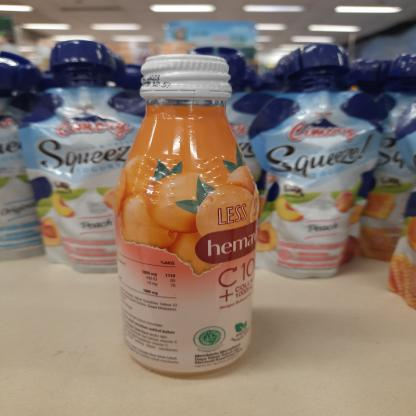keyboard: (106, 48, 268, 383)
